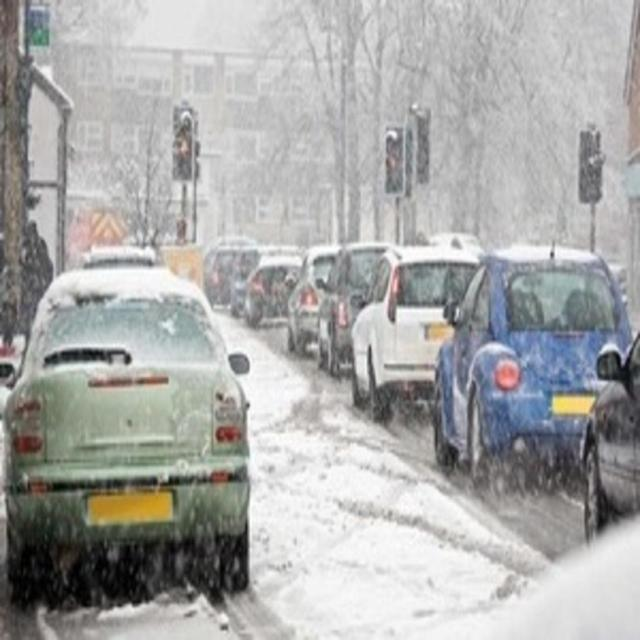Car: (0, 271, 253, 595)
